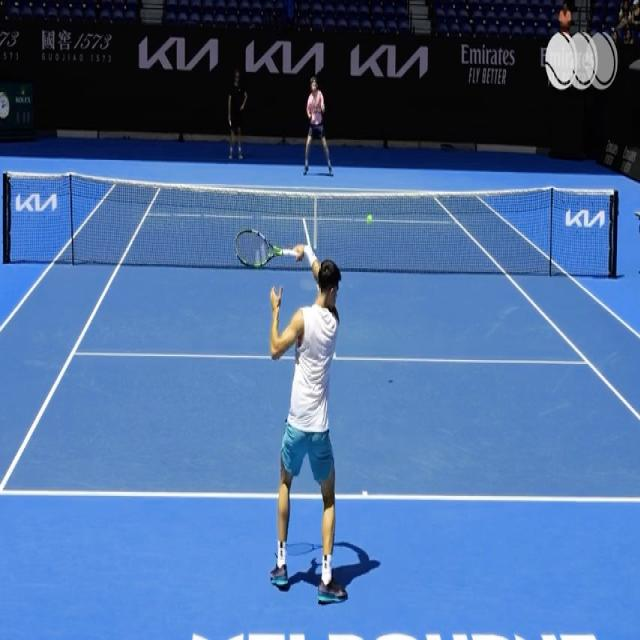forehand-finish: (228, 220, 360, 602)
